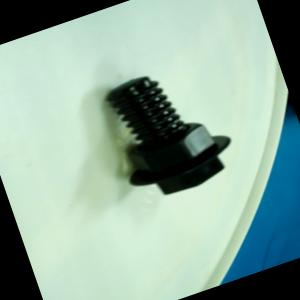parafuso: (95, 52, 241, 206)
